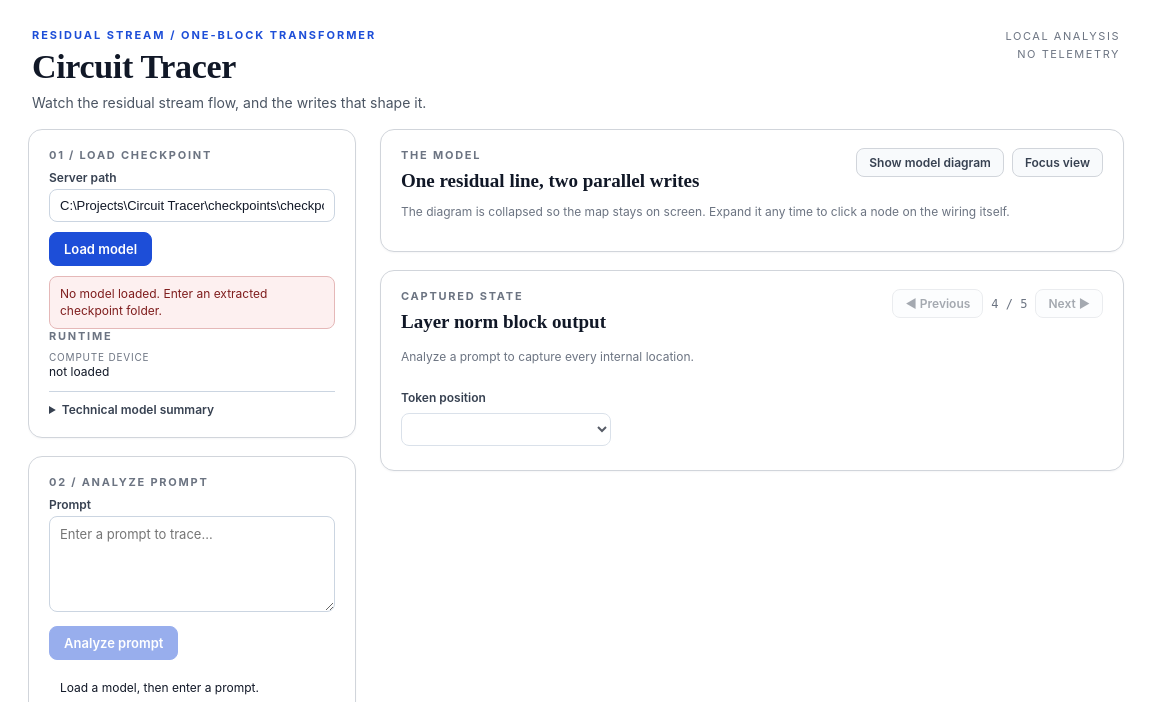
Test: App › loads a checkpoint and shows its runtime details
Replace the text in the field labelled "Server path" with "C:\\ckpt" at (192, 206), box [49, 189, 335, 222]
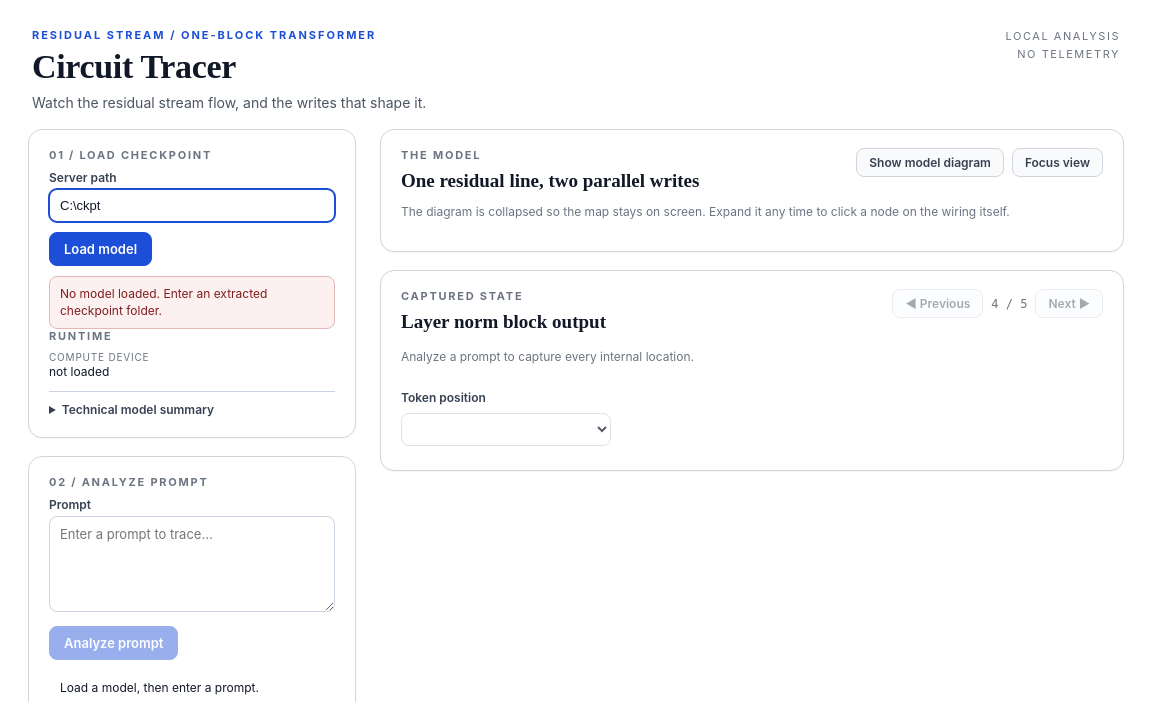
Click the button "Load model" at (101, 249), box [49, 232, 152, 266]
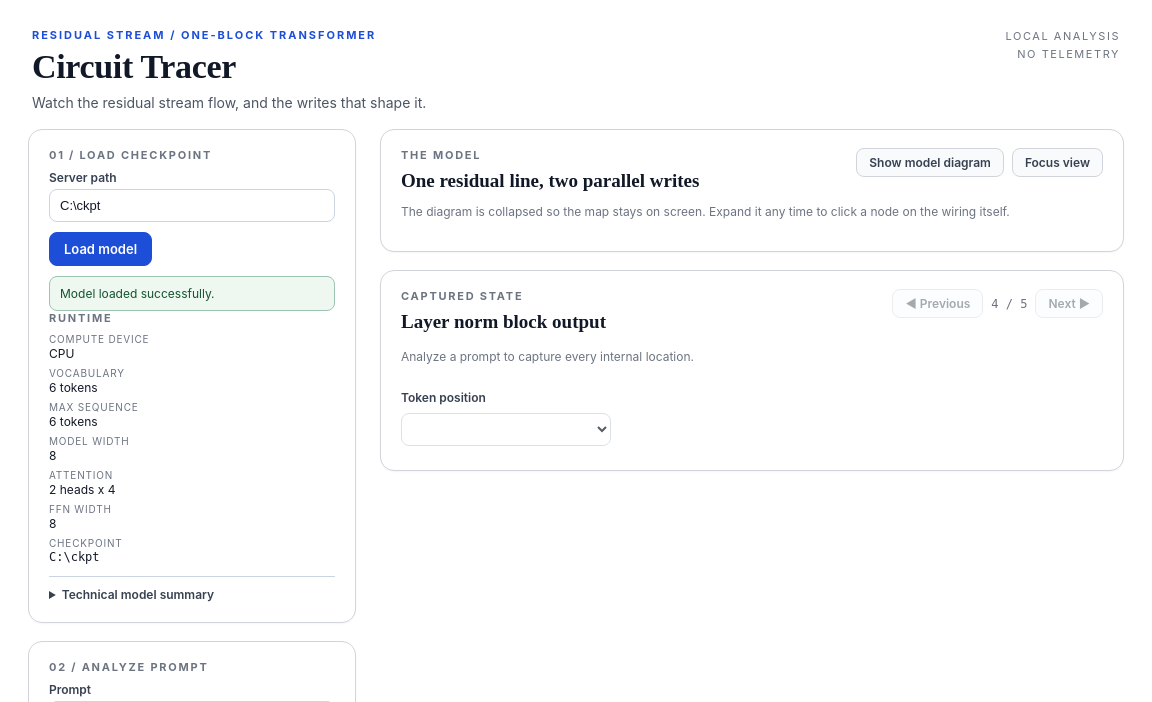
Now the text with test id "load-status" reads "Model loaded successfully.", box [60, 286, 215, 301]
Now the element with test id "model-meta" shows "CPU", box [49, 346, 74, 361]
